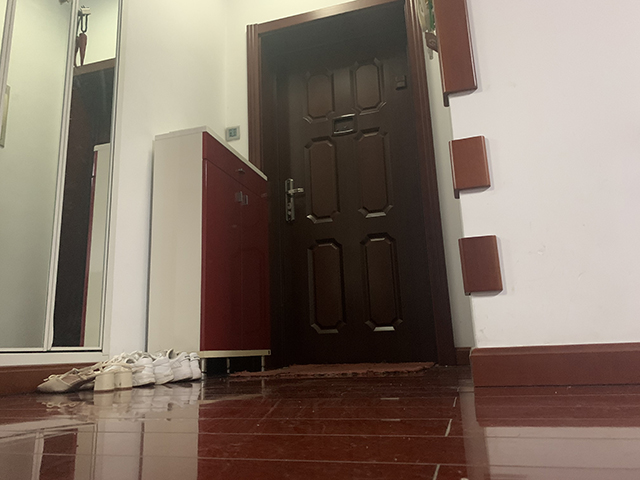cabinet: (144, 124, 269, 376)
carpet: (226, 359, 441, 382)
